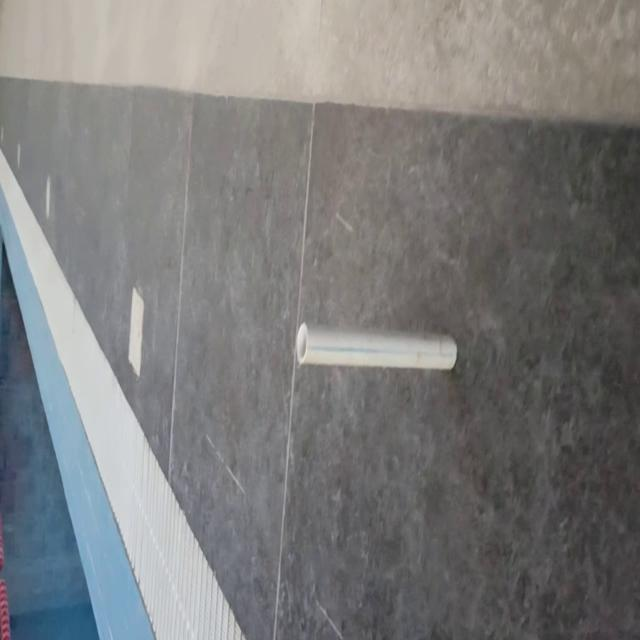Cube: (295, 320, 457, 372)
